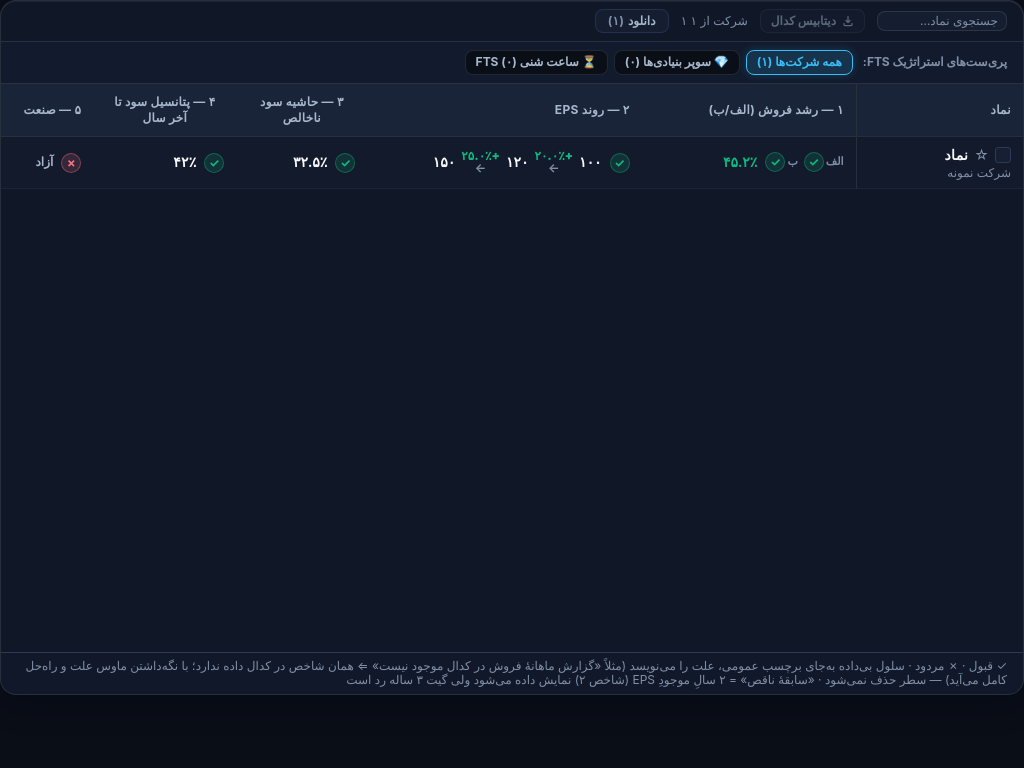
Test case: AuditBadge در جدول غربالگری (FtsScreenTable) › علامت شاخص ۱ با تارگت کانفیگ، جدول مقایسه دارد
Hover over the button with test id "fts-mark-1a_monetary_growth" at (814, 162), box [804, 152, 824, 172]
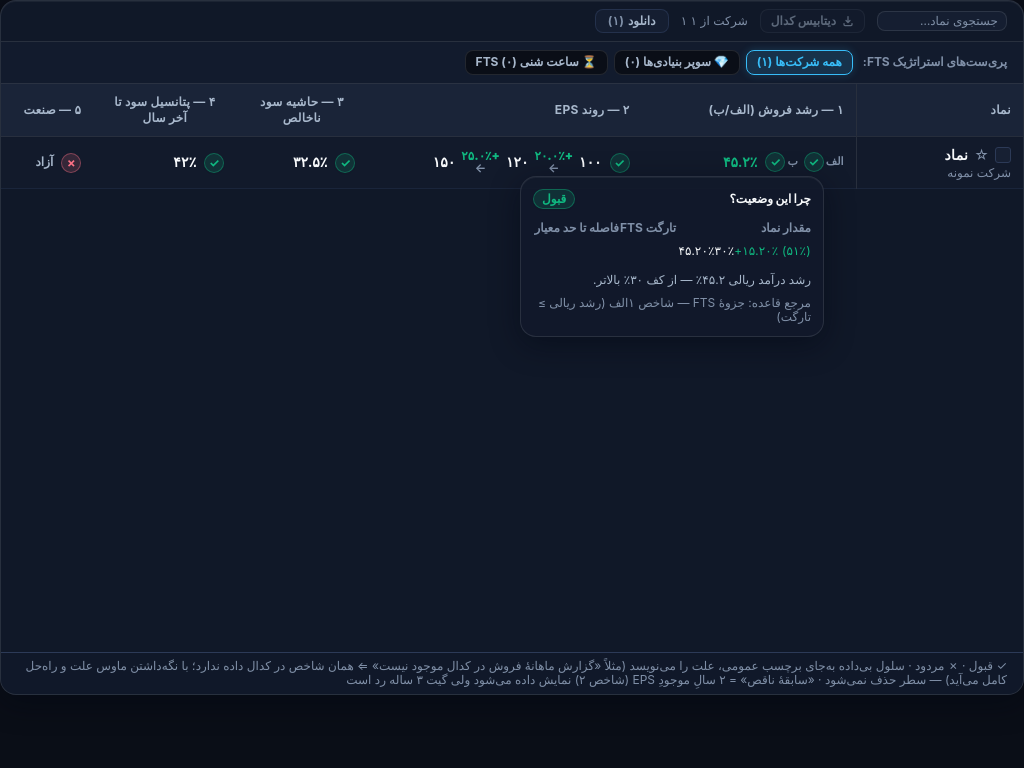
Now the cell with test id "audit-target" reads "۳۰٪", box [714, 243, 734, 258]
